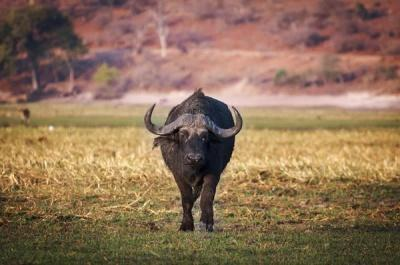buffalo: (144, 90, 244, 232)
